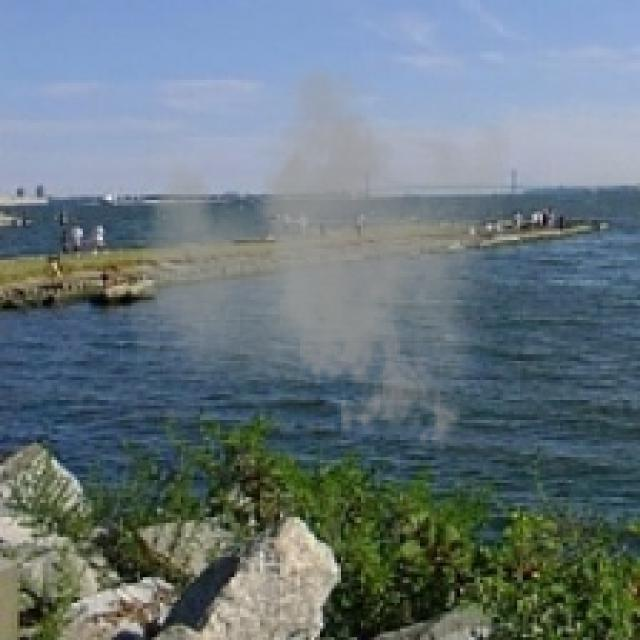smoke: (128, 52, 512, 457)
